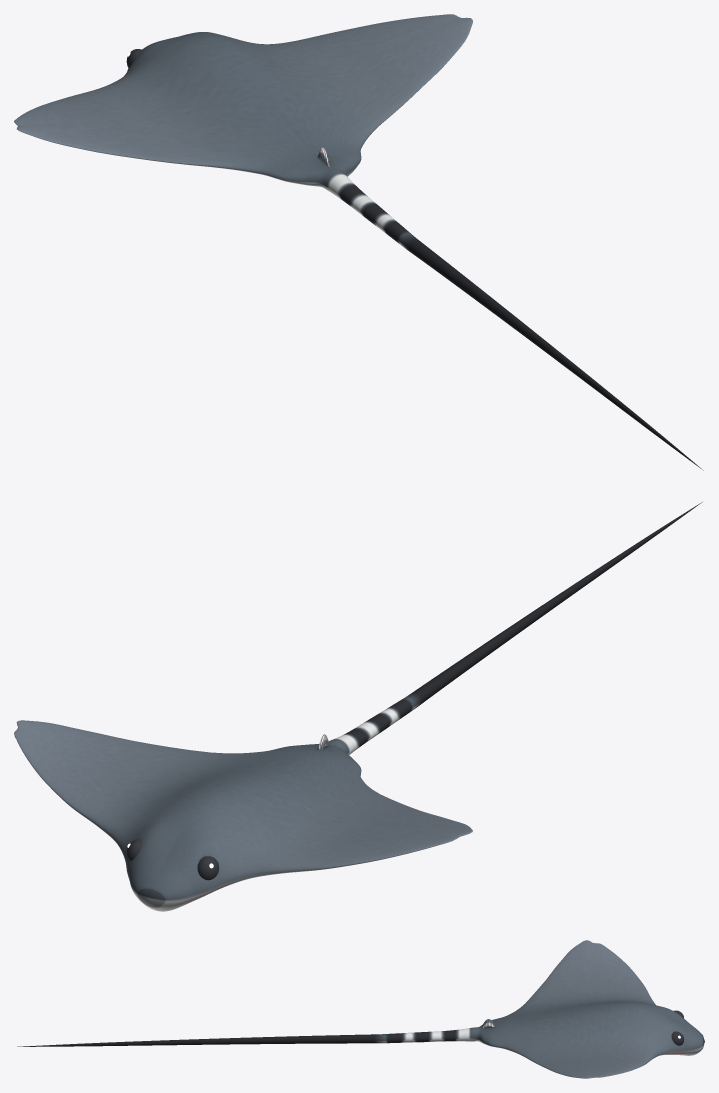
Rendered from eagleray.glb.
3 renders of one model, top to bottom at view 1: azimuth 30°, elevation 25°; view 2: azimuth 150°, elevation 25°; view 3: azimuth 270°, elevation 25°, orthographic. The views are drawn at different scales.
Visible parts, largest first — view 1: EagleRay; view 2: EagleRay; view 3: EagleRay.
Boxes of the visible parts, left/top/right/bottom form: EagleRay: left=14, top=14, right=703, bottom=470; EagleRay: left=14, top=502, right=702, bottom=911; EagleRay: left=17, top=940, right=704, bottom=1078.
Size of the model in its own units: 2 by 0.3253 by 4.23.
Materials: 3 (1 with a texture image).
